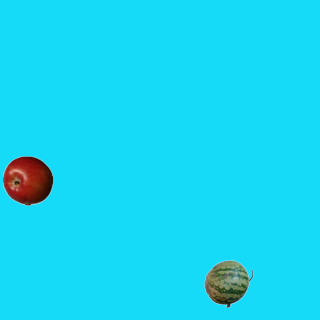Apple Braeburn: (2, 155, 52, 205)
Watermelon: (203, 258, 253, 308)
